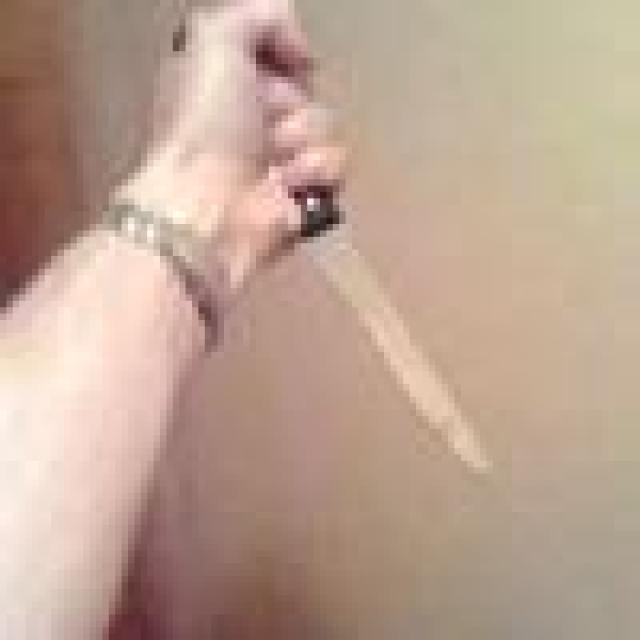faca: (134, 0, 518, 493)
